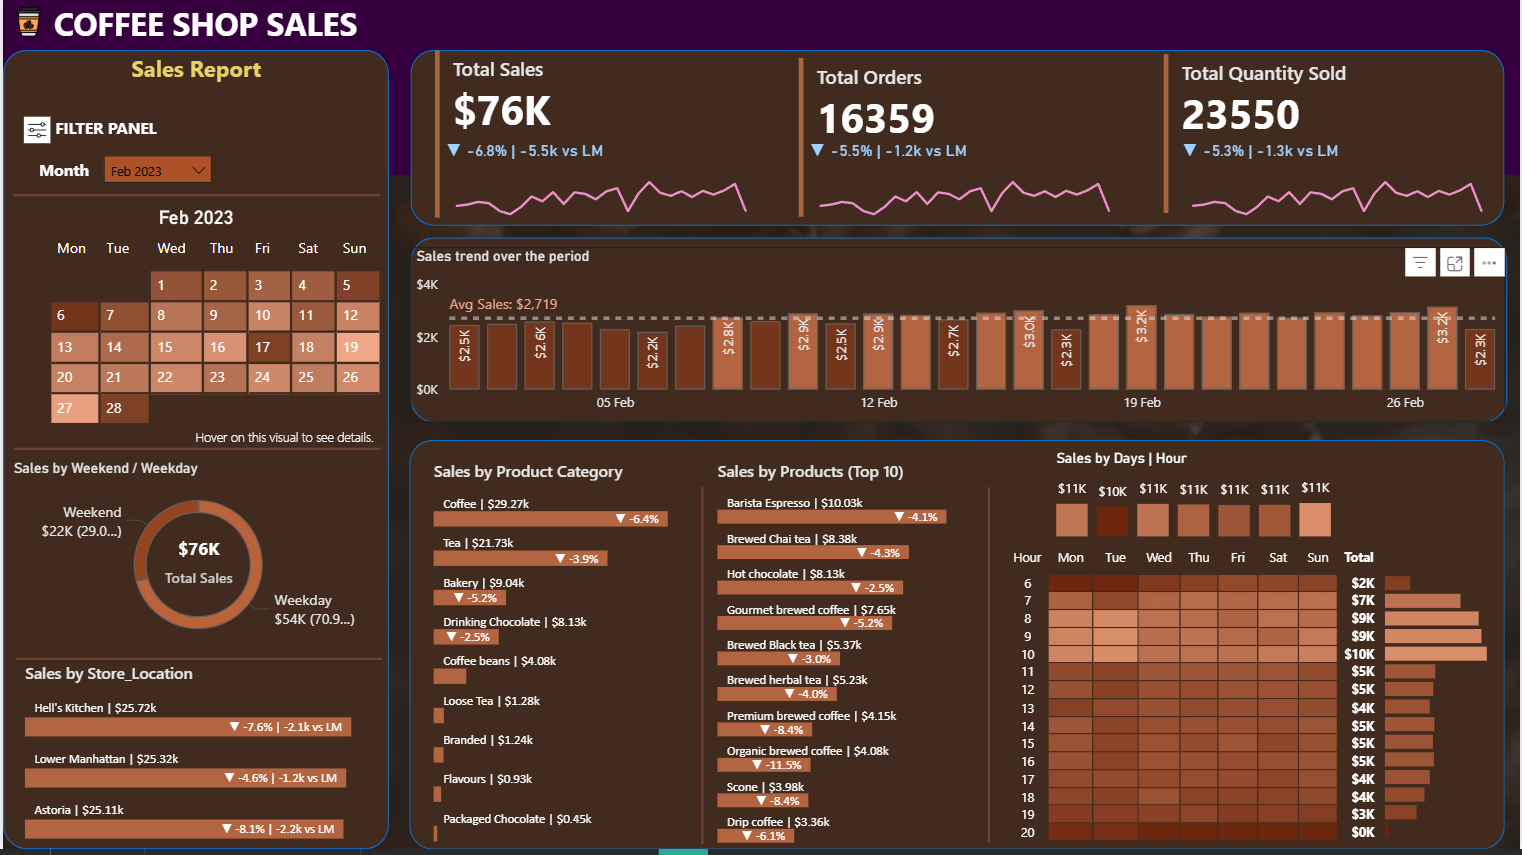

The page's visual inventory and layout, read from the dashboard file:
{"tool":"powerbi","page":{"name":"Page 1","canvas":[1280,720],"ordinal":0},"visuals":[{"type":"shape","box":[0,0,1280,151.4],"z":0},{"type":"shape","box":[0,45.6,325.6,674.4],"z":1000},{"type":"shape","box":[344.3,45.7,922.9,148.6],"z":2000},{"type":"shape","box":[343.7,203.4,925.3,156.3],"z":3000},{"type":"shape","box":[342.5,373.8,924.3,345.8],"z":4000},{"type":"textbox","box":[37.8,0,287.8,45.6],"z":5000},{"type":"cardVisual","fields":{"Data":["Transactions.Total Sales"]},"box":[359.2,41.2,285.3,151.2],"z":6000,"group":"g1"},{"type":"cardVisual","fields":{"Data":["Transactions.Total Quantity Sold"]},"box":[974.4,44.2,284.9,144.2],"z":6000,"group":"g3"},{"type":"cardVisual","fields":{"Data":["Transactions.Total Orders"]},"box":[666.7,47.7,284.9,144.2],"z":6000,"group":"g2"},{"type":"slicer","fields":{"Values":["Date Table.Month Year"]},"box":[80,130,101.2,35],"z":6000},{"type":"group","id":"g1","title":"Group 1","box":[359.2,41.2,285.3,155],"z":7000},{"type":"group","id":"g2","title":"Group 1","box":[666.7,47.7,284.9,148.8],"z":8000},{"type":"lineChart","fields":{"Category":["Date Table.Date Hierarchy.Date"],"Y":["Transactions.Total Sales"]},"box":[989.3,121.3,273.3,74.4],"z":8000,"group":"g3"},{"type":"lineChart","fields":{"Category":["Date Table.Date Hierarchy.Date"],"Y":["Transactions.Total Sales"]},"box":[367.6,121.8,273.6,74.4],"z":8000,"group":"g1"},{"type":"lineChart","fields":{"Category":["Date Table.Date Hierarchy.Date"],"Y":["Transactions.Total Sales"]},"box":[674.9,121.9,273.3,74.4],"z":8000,"group":"g2"},{"type":"group","id":"g3","title":"Group 1","box":[974.4,44.2,288.4,152.3],"z":9000},{"type":"pivotTable","fields":{"Rows":["Date Table.Week Number"],"Columns":["Date Table.Day Name"],"Values":["Min(Date Table.Day number)"]},"box":[0,196.2,325,195],"z":10000},{"type":"card","fields":{"Values":["Min(Date Table.Month Year)"]},"box":[98.8,173.3,127.9,30.2],"z":11000},{"type":"card","fields":{"Values":["Transactions.Foot Note"]},"box":[149.6,356.6,175.9,38.2],"z":12000},{"type":"shape","box":[10,373.8,308.8,17.5],"z":13000},{"type":"shape","box":[8.2,159.2,309.9,17.5],"z":14000},{"type":"donutChart","title":"Sales by Weekend / Weekday","fields":{"Category":["Date Table.Weekend / Weekday"],"Y":["Transactions.Total Sales"]},"box":[3.8,391.2,321.2,163.8],"z":15000},{"type":"card","fields":{"Values":["Transactions.Total Sales"]},"box":[126.1,449.7,77.6,54],"z":16000},{"type":"clusteredBarChart","title":"Sales by Store_Location","fields":{"Category":["Transactions.store_location"],"Y":["Transactions.Placeholder","Transactions.Total Sales"]},"box":[13.8,562.5,311.2,156.2],"z":17000},{"type":"shape","box":[10.5,550,309.3,17.4],"z":18000},{"type":"columnChart","title":"Sales trend over the period","fields":{"Category":["Transactions.transaction_date"],"Y":["Transactions.Total Sales"]},"box":[343.7,211.5,924.1,148.3],"z":19000},{"type":"clusteredBarChart","title":"Sales by Product Category","fields":{"Category":["Transactions.product_category"],"Y":["Transactions.Placeholder","Transactions.Total Sales"]},"box":[358.6,390.8,229.9,327.6],"z":20000},{"type":"shape","box":[580.5,414.7,17.9,301.1],"z":21000},{"type":"clusteredBarChart","title":"Sales by Products (Top 10)","fields":{"Category":["Transactions.product_type"],"Y":["Transactions.Placeholder","Transactions.Total Sales"]},"box":[597.7,390.8,234.5,328.7],"z":22000},{"type":"shape","box":[822.6,414.7,18.4,300],"z":23000},{"type":"pivotTable","fields":{"Rows":["Transactions.Hour"],"Columns":["Date Table.Day Name"],"Values":["Transactions.Total Sales"]},"box":[841.4,462.1,327.6,256.3],"z":24000},{"type":"barChart","fields":{"Y":["Transactions.Total Sales"],"Category":["Transactions.Hour"]},"box":[1160.9,477,98.9,237.9],"z":25000},{"type":"columnChart","title":"Sales by Days | Hour","fields":{"Y":["Transactions.Total Sales"],"Category":["Date Table.Day Name"]},"box":[883.9,382.8,242.5,79.3],"z":26000},{"type":"textbox","box":[25,132.5,65,28.8],"z":27000},{"type":"textbox","box":[103.8,43.8,133.8,35],"z":28000},{"type":"textbox","box":[38.8,97.5,111.2,32.5],"z":29000},{"type":"image","box":[0,97.5,57.5,32.5],"z":30000},{"type":"image","box":[3.8,0,35,43.8],"z":31000}]}

Visuals, with their boxes in screenshot pixels (x1, y1, x2, y2), scaled from the page's 1280x720 canvas onto the 1522x855 screenshot:
shape: <region>0, 0, 1521, 180</region>
shape: <region>0, 54, 387, 854</region>
shape: <region>409, 54, 1507, 231</region>
shape: <region>409, 242, 1509, 427</region>
shape: <region>407, 444, 1506, 854</region>
textbox: <region>45, 0, 387, 54</region>
cardVisual - Transactions.Total Sales: <region>427, 49, 766, 228</region>
cardVisual - Transactions.Total Quantity Sold: <region>1159, 52, 1497, 224</region>
cardVisual - Transactions.Total Orders: <region>793, 57, 1132, 228</region>
slicer - Date Table.Month Year: <region>95, 154, 215, 196</region>
"Group 1" group: <region>427, 49, 766, 233</region>
"Group 1" group: <region>793, 57, 1132, 233</region>
lineChart - Date Table.Date Hierarchy.Date x Transactions.Total Sales: <region>1176, 144, 1501, 232</region>
lineChart - Date Table.Date Hierarchy.Date x Transactions.Total Sales: <region>437, 145, 762, 233</region>
lineChart - Date Table.Date Hierarchy.Date x Transactions.Total Sales: <region>802, 145, 1127, 233</region>
"Group 1" group: <region>1159, 52, 1502, 233</region>
pivotTable - Date Table.Week Number x Date Table.Day Name: <region>0, 233, 386, 465</region>
card - Min(Date Table.Month Year): <region>117, 206, 270, 242</region>
card - Transactions.Foot Note: <region>178, 423, 387, 469</region>
shape: <region>12, 444, 379, 465</region>
shape: <region>10, 189, 378, 210</region>
"Sales by Weekend / Weekday" donutChart: <region>5, 465, 386, 659</region>
card - Transactions.Total Sales: <region>150, 534, 242, 598</region>
"Sales by Store_Location" clusteredBarChart: <region>16, 668, 386, 853</region>
shape: <region>12, 653, 380, 674</region>
"Sales trend over the period" columnChart: <region>409, 251, 1507, 427</region>
"Sales by Product Category" clusteredBarChart: <region>426, 464, 700, 853</region>
shape: <region>690, 492, 712, 850</region>
"Sales by Products (Top 10)" clusteredBarChart: <region>711, 464, 990, 854</region>
shape: <region>978, 492, 1000, 849</region>
pivotTable - Transactions.Hour x Date Table.Day Name: <region>1000, 549, 1390, 853</region>
barChart - Transactions.Total Sales x Transactions.Hour: <region>1380, 566, 1498, 849</region>
"Sales by Days | Hour" columnChart: <region>1051, 455, 1339, 549</region>
textbox: <region>30, 157, 107, 192</region>
textbox: <region>123, 52, 283, 94</region>
textbox: <region>46, 116, 178, 154</region>
image: <region>0, 116, 68, 154</region>
image: <region>5, 0, 46, 52</region>
